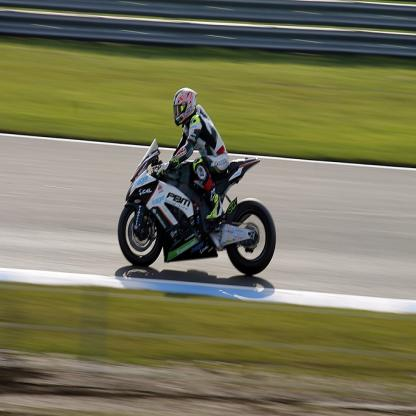Helmet: (171, 85, 199, 128)
